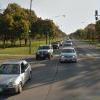Car: (0, 54, 36, 95)
